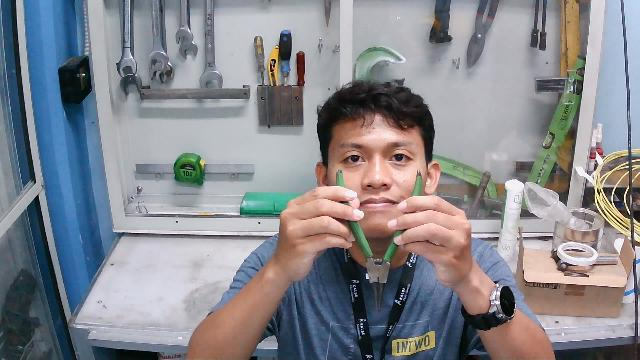tang_cucut_lancip_2: (328, 167, 433, 315)
